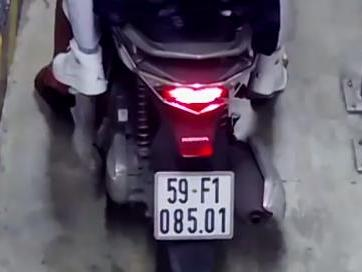num_plate: (153, 171, 234, 239)
